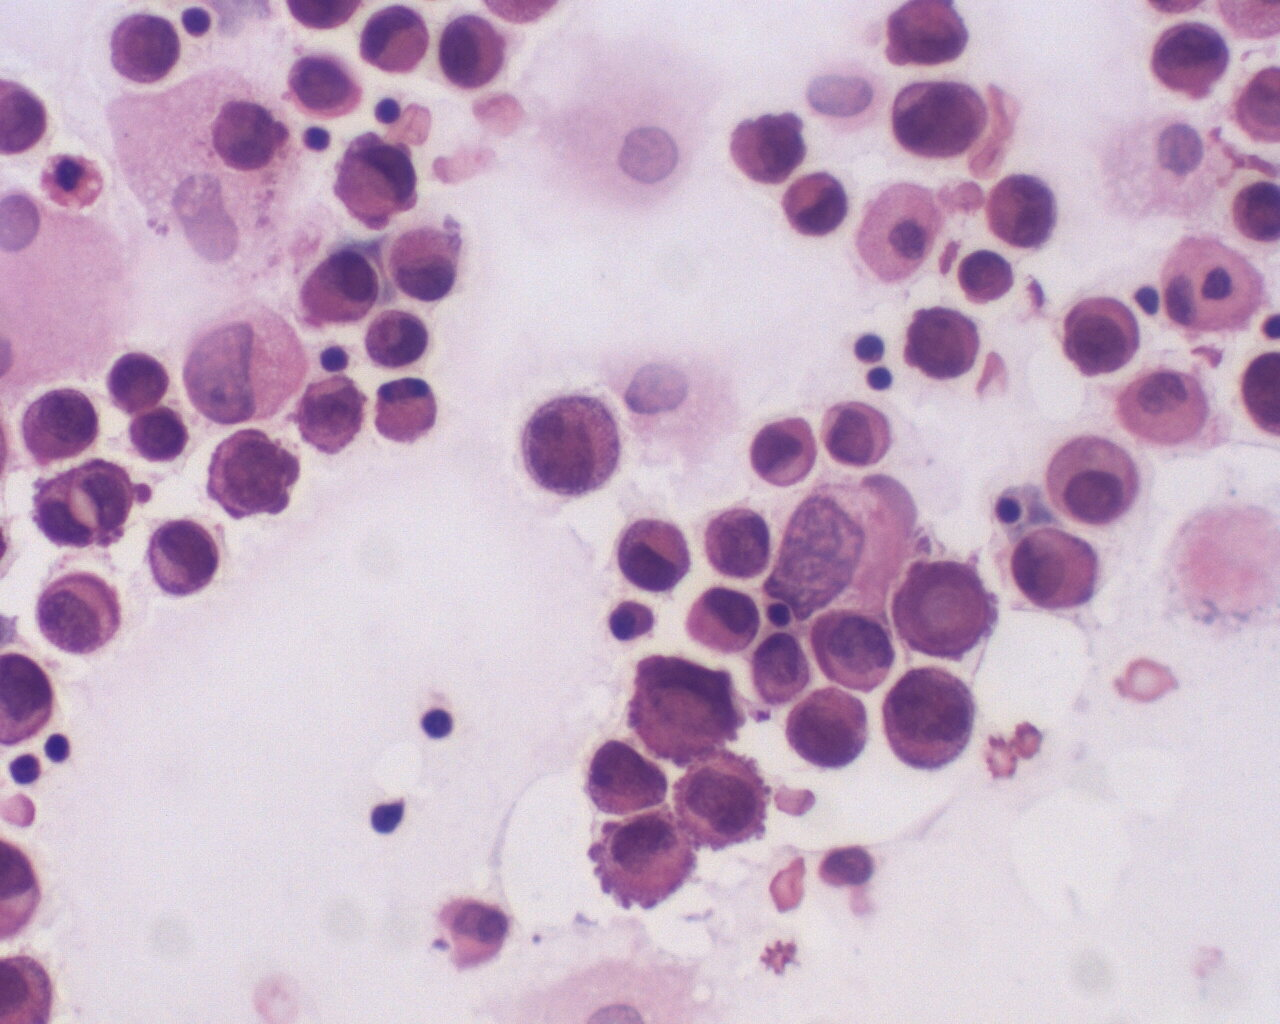ab: (513, 389, 635, 501), (889, 553, 1004, 665), (884, 69, 1009, 164), (672, 744, 776, 856), (883, 660, 983, 776), (205, 425, 316, 530), (589, 810, 700, 912), (1053, 284, 1144, 385), (783, 684, 879, 776), (806, 605, 899, 695), (898, 294, 985, 389), (579, 740, 680, 820), (1143, 14, 1237, 98), (275, 49, 380, 122), (724, 104, 810, 191), (202, 94, 290, 174), (984, 167, 1067, 252), (143, 513, 225, 599), (698, 496, 777, 584), (389, 219, 468, 307), (22, 388, 106, 469), (615, 511, 697, 595), (817, 399, 899, 471), (109, 8, 183, 85), (683, 585, 762, 656), (360, 301, 432, 373), (104, 347, 180, 415), (124, 406, 194, 467)
lymph: (418, 697, 458, 746), (990, 491, 1029, 531), (318, 338, 356, 374), (41, 728, 74, 765)
meso: (1042, 427, 1151, 527)
